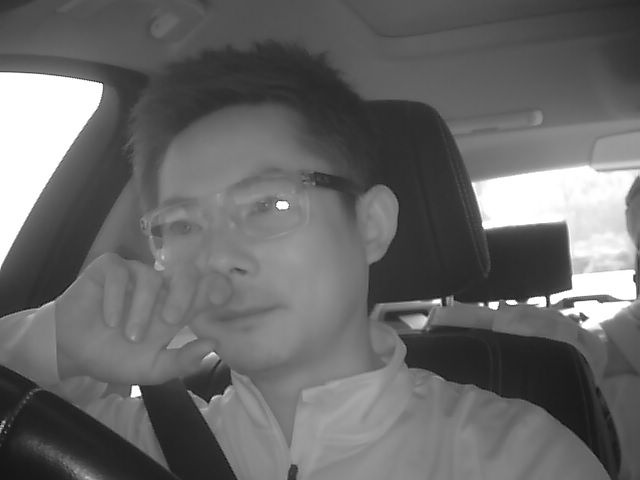hand: (63, 255, 227, 391)
